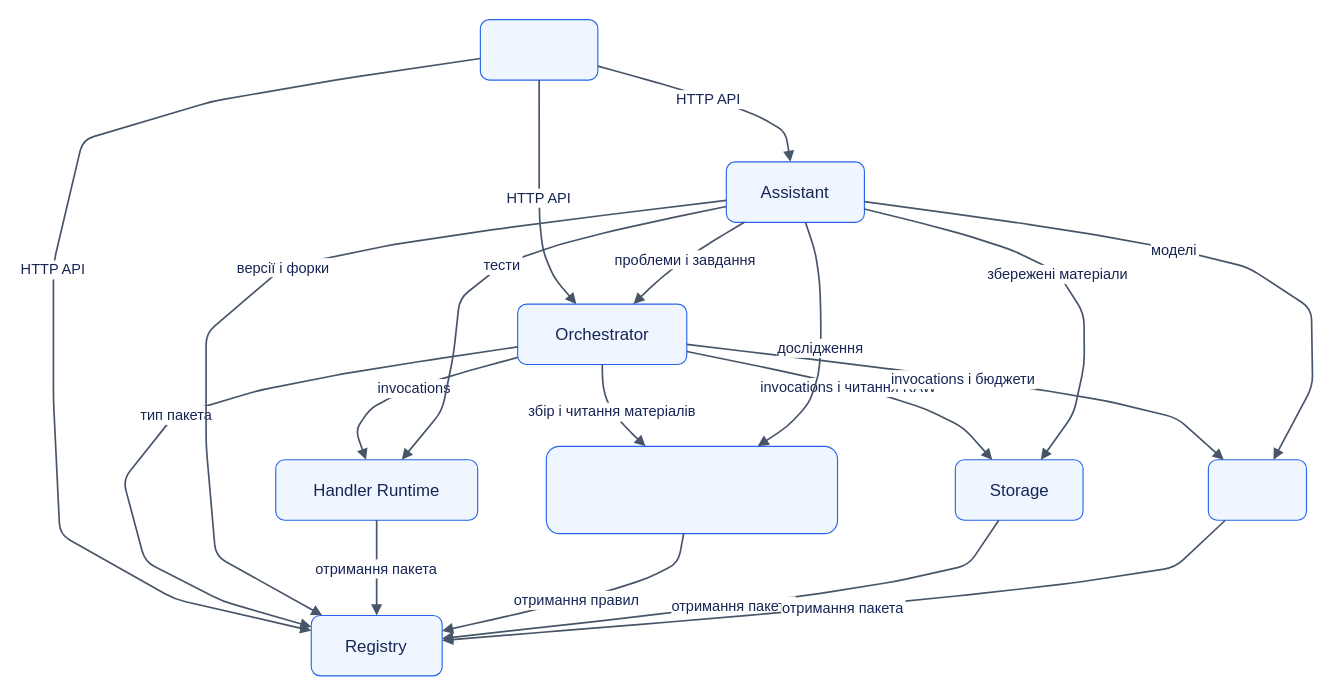
This 1342x696 diagram has some shape labels left out. The box of each missing label's shape, as (x1, y1, x2, y2) in pixels:
Admin: (479, 18, 598, 80)
LLM: (1207, 459, 1306, 520)
Web або Telegram Collector: (545, 445, 838, 534)
